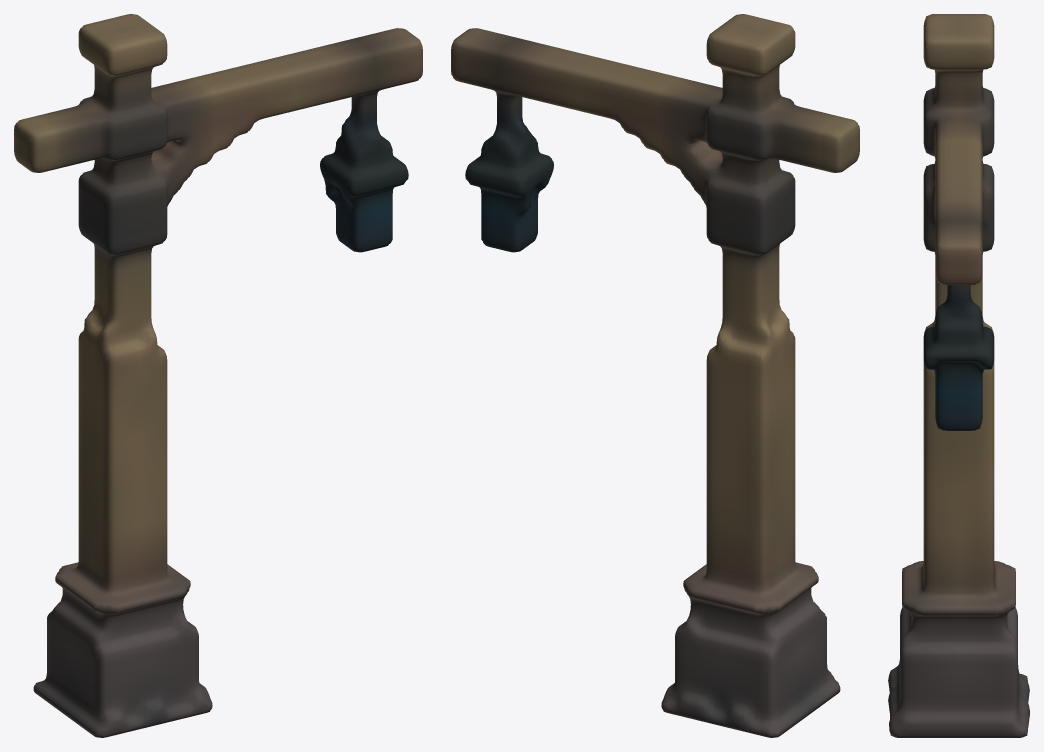
File: Lantern_256B_vox.glb
The picture shows the model from 3 angles, left to right: view 1: azimuth 30°, elevation 25°; view 2: azimuth 150°, elevation 25°; view 3: azimuth 270°, elevation 25°; orthographic projection.
Parts seen in each view (by area): view 1: shapehash-vox; view 2: shapehash-vox; view 3: shapehash-vox.
Part boxes in pixels (<box>): shapehash-vox: <box>14,14,422,737</box>; shapehash-vox: <box>451,14,859,737</box>; shapehash-vox: <box>888,14,1029,737</box>.
Size of the model in its own units: 1.22 by 2 by 0.375.
